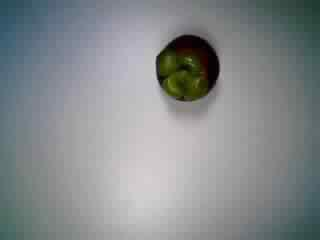mangosteen: (152, 31, 224, 103)
